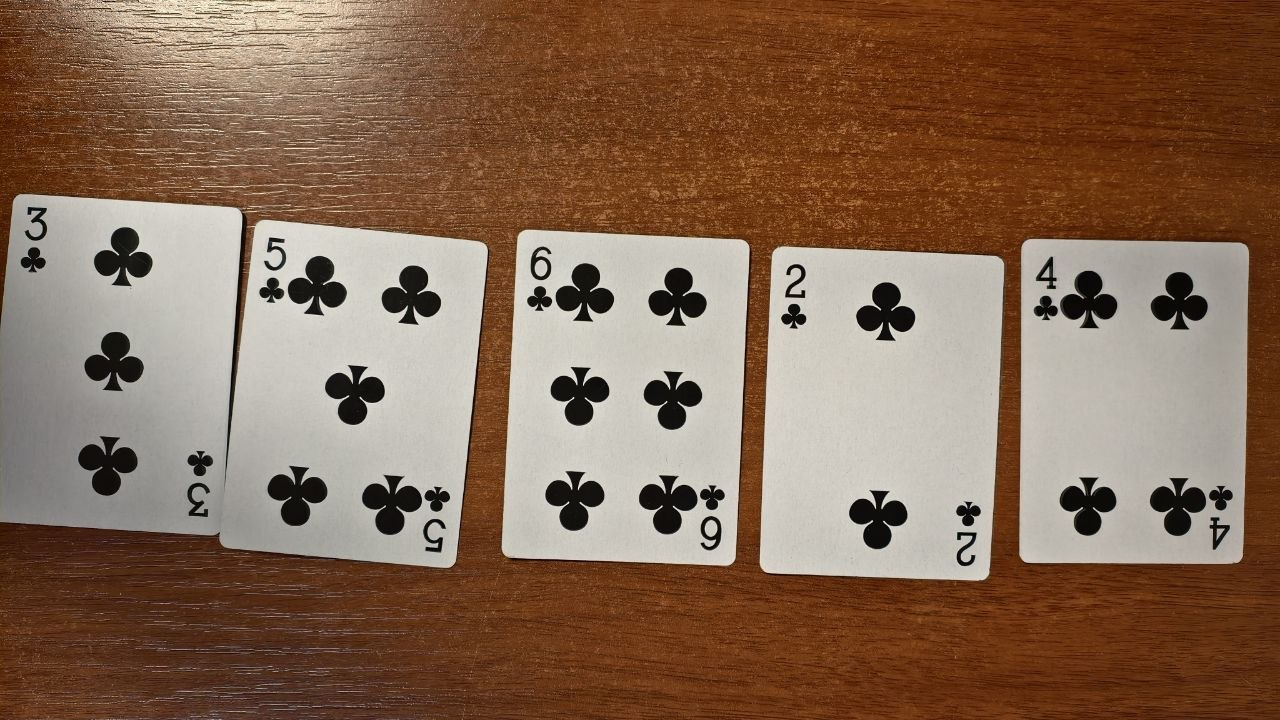2C: (760, 245, 1005, 582)
3C: (0, 194, 243, 535)
4C: (1019, 236, 1245, 565)
5C: (218, 219, 490, 568)
6C: (502, 229, 751, 567)
